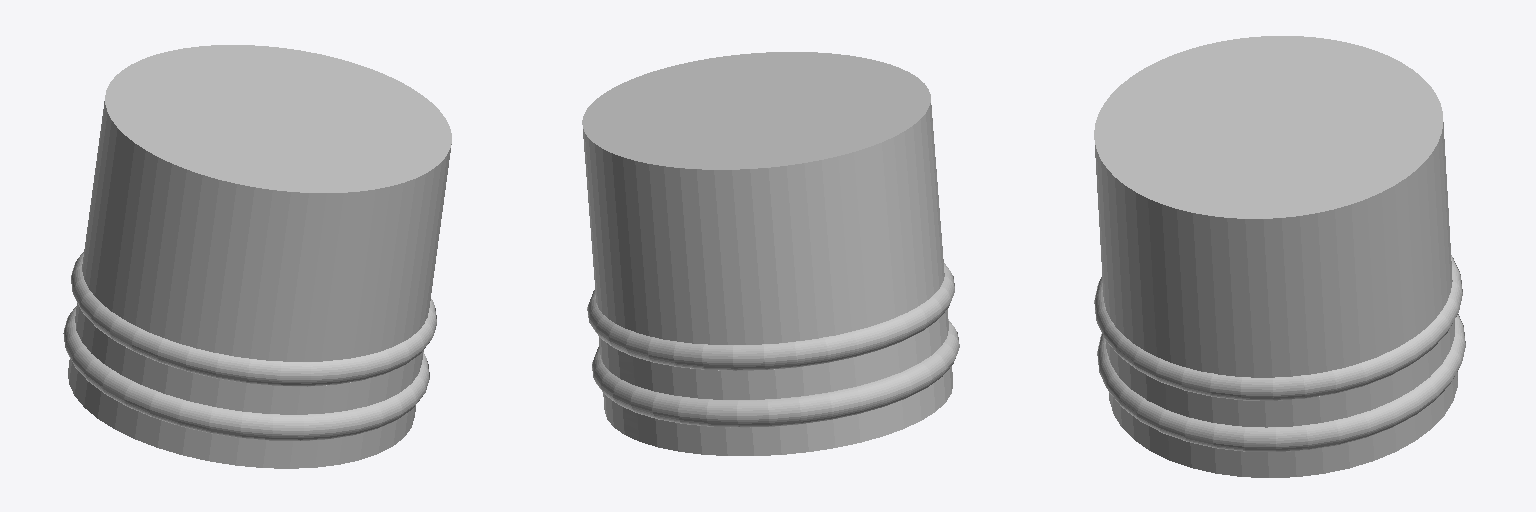
File: bombilla181.obj
3 renders of one model, left to right at view 1: azimuth 30°, elevation 25°; view 2: azimuth 150°, elevation 25°; view 3: azimuth 270°, elevation 25°, orthographic.
Visible parts, largest first — view 1: Cylinder001, Cylinder004, Cylinder003, Cylinder006, Cylinder002; view 2: Cylinder001, Cylinder004, Cylinder003, Cylinder006, Cylinder002; view 3: Cylinder001, Cylinder004, Cylinder002, Cylinder003, Cylinder006.
Boxes of the visible parts, x1=… form: Cylinder001: x1=82, y1=45, x2=451, y2=361; Cylinder004: x1=63, y1=306, x2=429, y2=440; Cylinder003: x1=75, y1=303, x2=423, y2=414; Cylinder006: x1=68, y1=359, x2=415, y2=468; Cylinder002: x1=71, y1=252, x2=436, y2=386; Cylinder001: x1=582, y1=52, x2=944, y2=344; Cylinder004: x1=592, y1=319, x2=959, y2=427; Cylinder003: x1=599, y1=309, x2=948, y2=399; Cylinder006: x1=603, y1=366, x2=952, y2=455; Cylinder002: x1=587, y1=263, x2=954, y2=370; Cylinder001: x1=1094, y1=36, x2=1452, y2=377; Cylinder004: x1=1097, y1=314, x2=1465, y2=451; Cylinder002: x1=1094, y1=255, x2=1462, y2=400; Cylinder003: x1=1106, y1=320, x2=1454, y2=427; Cylinder006: x1=1109, y1=372, x2=1457, y2=477.
Bounding box in the file's own units: 75.65 × 67.55 × 72.73.